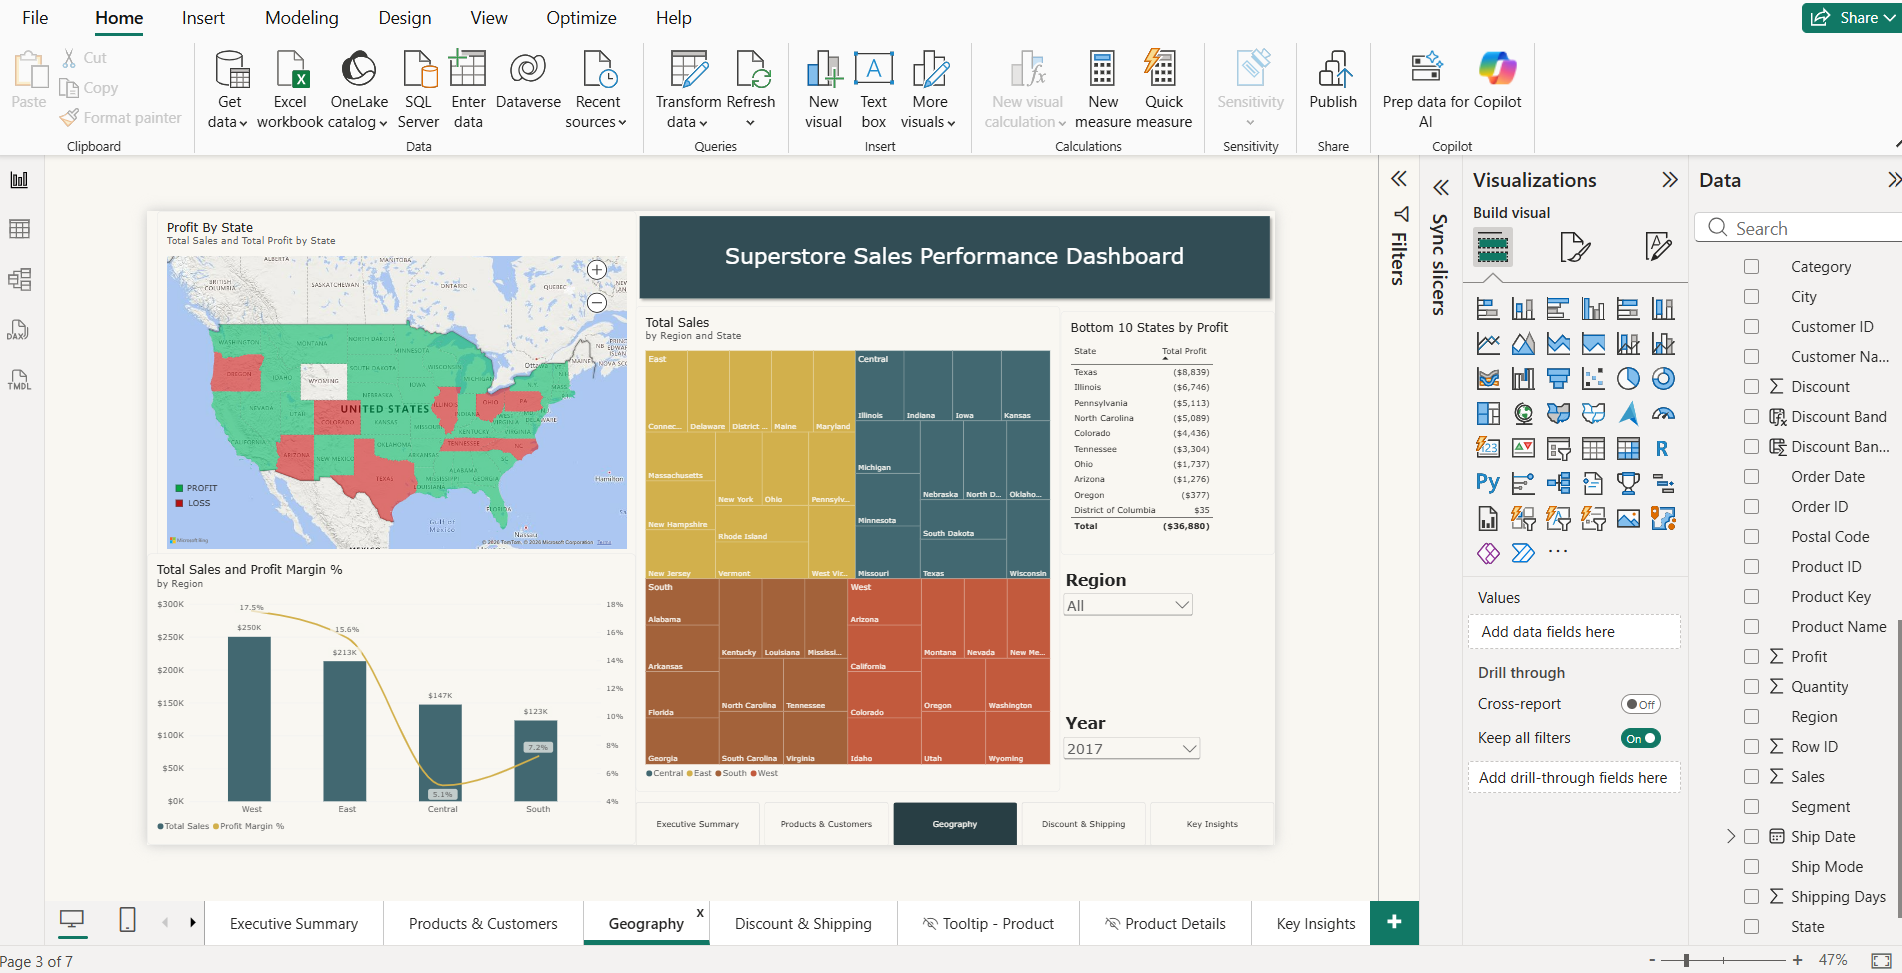

The dashboard page shown, as its layout file describes it:
{"tool":"powerbi","page":{"name":"Geography","canvas":[1920,1080],"ordinal":2},"visuals":[{"type":"filledMap","title":"Profit By State","fields":{"Category":["Sales.State"]},"box":[16,0,816,592],"z":0},{"type":"shape","box":[830,0,1090,157.5],"z":0},{"type":"lineClusteredColumnComboChart","fields":{"Category":["Sales.Region"],"Y":["_Measures.Total Sales"],"Y2":["_Measures.Profit Margin %"]},"box":[0,584,832,496],"z":1},{"type":"treemap","fields":{"Details":["Dim_Geography.State"],"Group":["Dim_Geography.Region"],"Values":["_Measures.Total Sales"]},"box":[832.5,162.5,722.5,827.5],"z":2},{"type":"tableEx","title":"Bottom 10 States by Profit","fields":{"Values":["Sales.State","_Measures.Total Profit"]},"box":[1555,170,365,415],"z":3},{"type":"slicer","fields":{"Values":["DateTable.Year"]},"box":[1555,855,242.5,150.2],"z":4},{"type":"slicer","fields":{"Values":["Sales.Region"]},"box":[1555,610,229.6,158.6],"z":5},{"type":"pageNavigator","box":[832.7,1005.9,1087.3,75.1],"z":6},{"type":"shape","box":[50,466,12.1,12.1],"z":7,"group":"g1"},{"type":"shape","box":[50.2,490.4,12.3,12.3],"z":8,"group":"g1"},{"type":"textbox","box":[70.1,461,83.1,58.4],"z":9,"group":"g1"},{"type":"textbox","box":[70.3,487.2,92.2,53.4],"z":10,"group":"g1"},{"type":"group","id":"g1","title":"Group 1","box":[50,461,112.6,79.6],"z":11},{"type":"textbox","box":[830,52.5,1090,72.5],"z":1000}]}

Visuals, with their boxes on the page's 1920x1080 design canvas (x1, y1, x2, y2). These are canvas units, not pixel positions in the 1902x973 screenshot, which may show the page scaled, cropped or inside an application window:
"Profit By State" filledMap: bbox=(16, 0, 832, 592)
shape: bbox=(830, 0, 1920, 158)
lineClusteredColumnComboChart - Sales.Region x _Measures.Total Sales: bbox=(0, 584, 832, 1080)
treemap - Dim_Geography.State x Dim_Geography.Region: bbox=(832, 162, 1555, 990)
"Bottom 10 States by Profit" tableEx: bbox=(1555, 170, 1920, 585)
slicer - DateTable.Year: bbox=(1555, 855, 1798, 1005)
slicer - Sales.Region: bbox=(1555, 610, 1785, 769)
pageNavigator: bbox=(833, 1006, 1920, 1081)
shape: bbox=(50, 466, 62, 478)
shape: bbox=(50, 490, 62, 503)
textbox: bbox=(70, 461, 153, 519)
textbox: bbox=(70, 487, 162, 541)
"Group 1" group: bbox=(50, 461, 163, 541)
textbox: bbox=(830, 52, 1920, 125)
